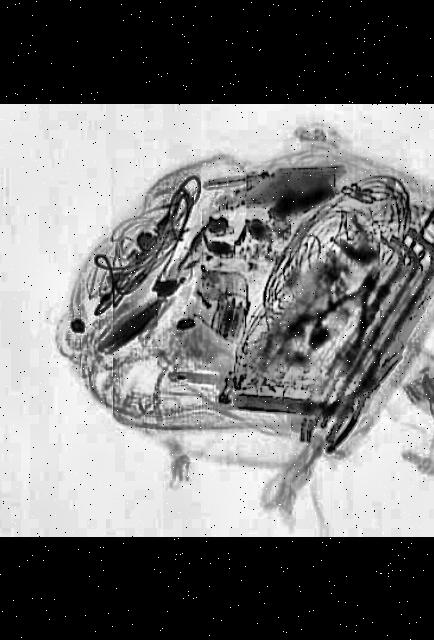Pliers: (278, 258, 406, 382), (313, 349, 409, 456)
